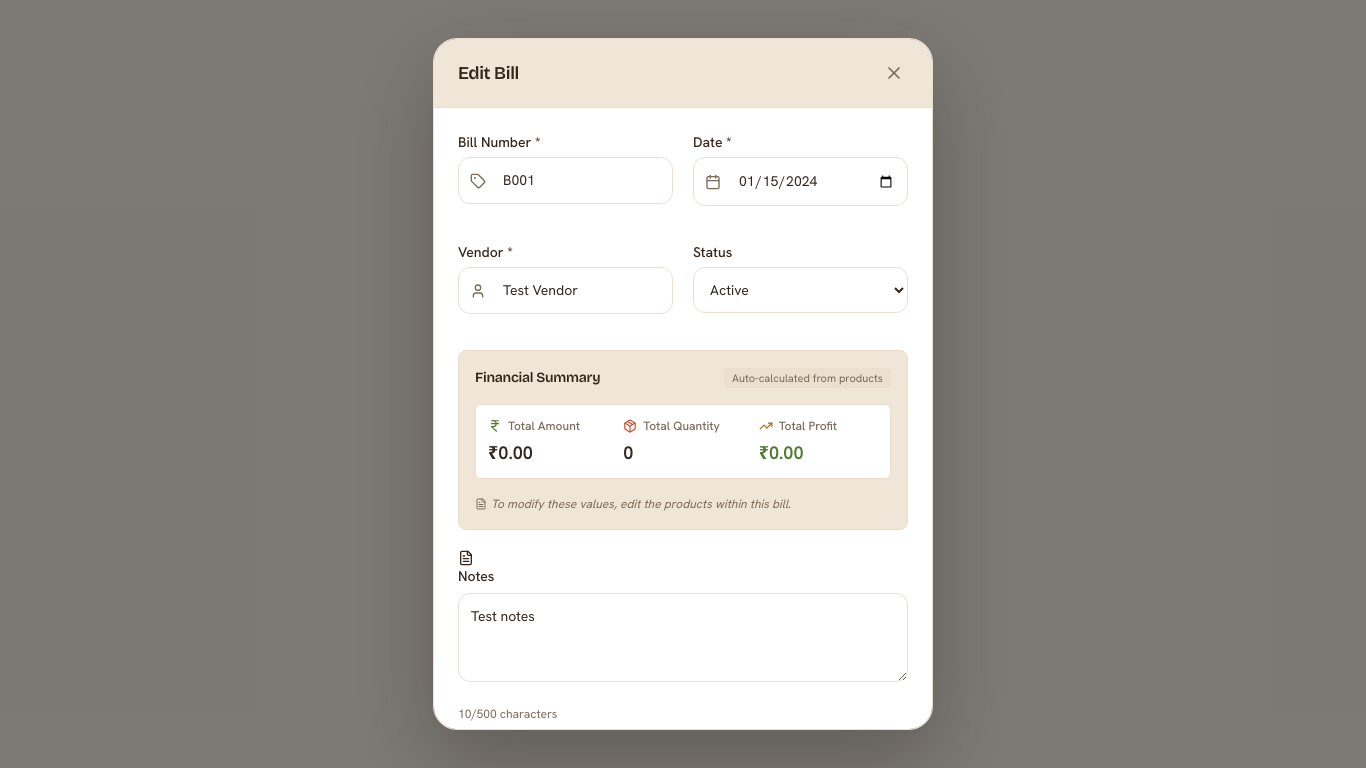
Test case: BillEditModal › Form Validation › shows error when date is empty
Clear the date field showing "2024-01-15" at [800, 182], box [693, 157, 908, 206]
(page scrolled)
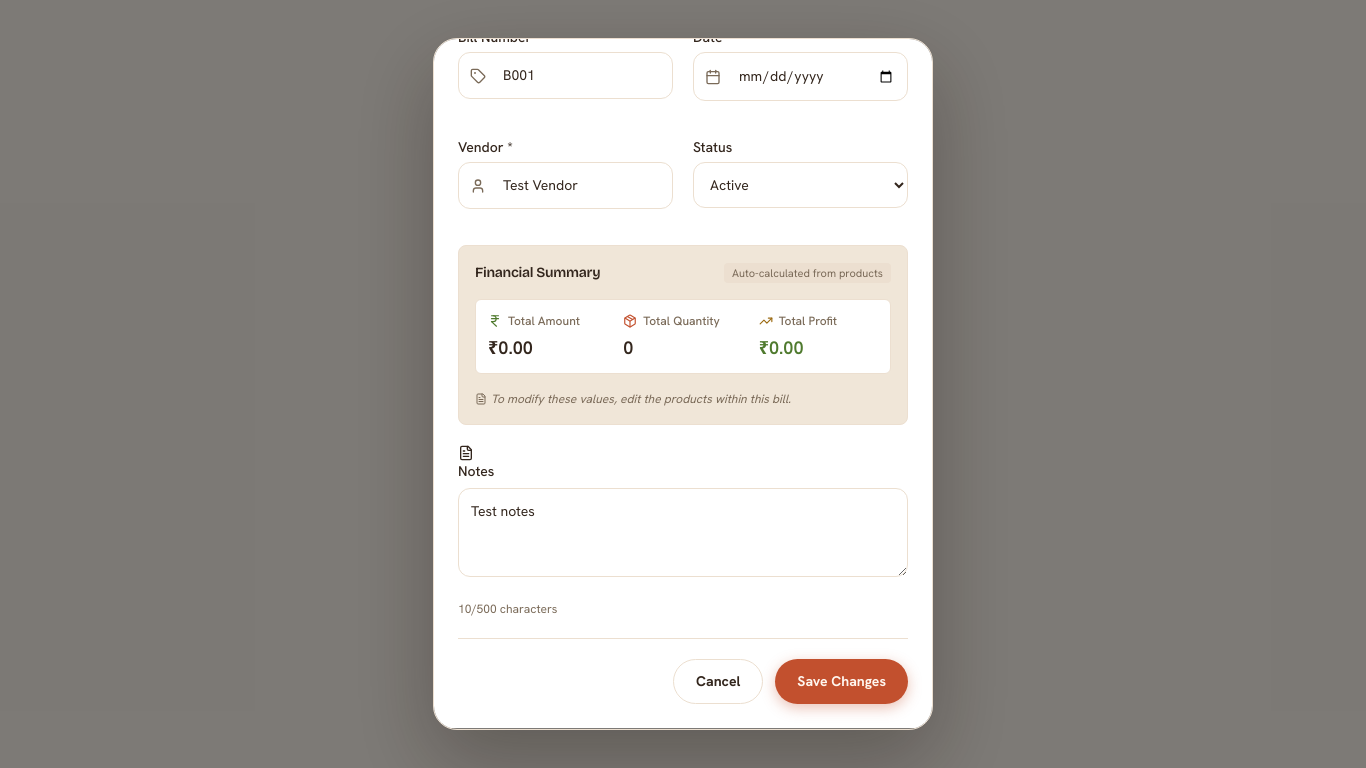
Click the button "Save Changes" at [842, 682], box [775, 659, 908, 704]
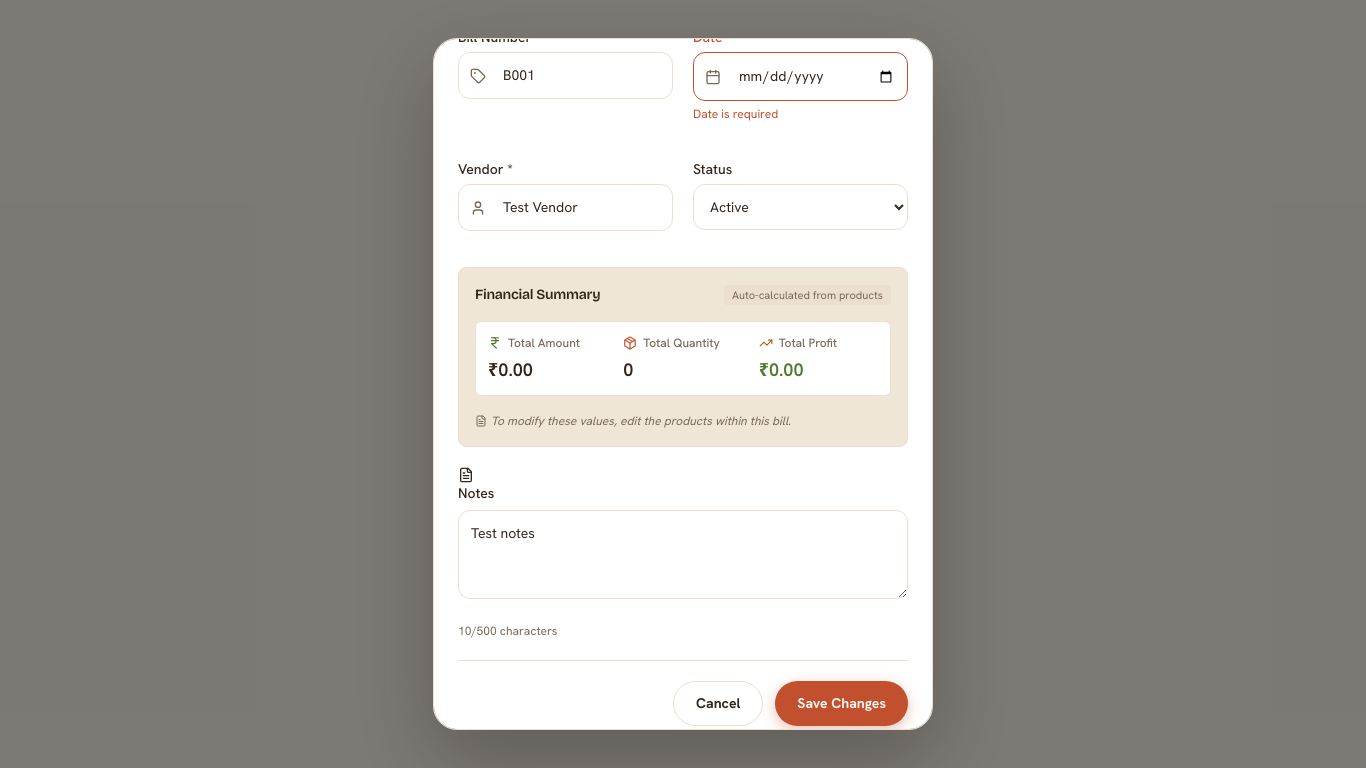
Expected: the text "Date is required" is shown, [693, 106, 778, 122]
